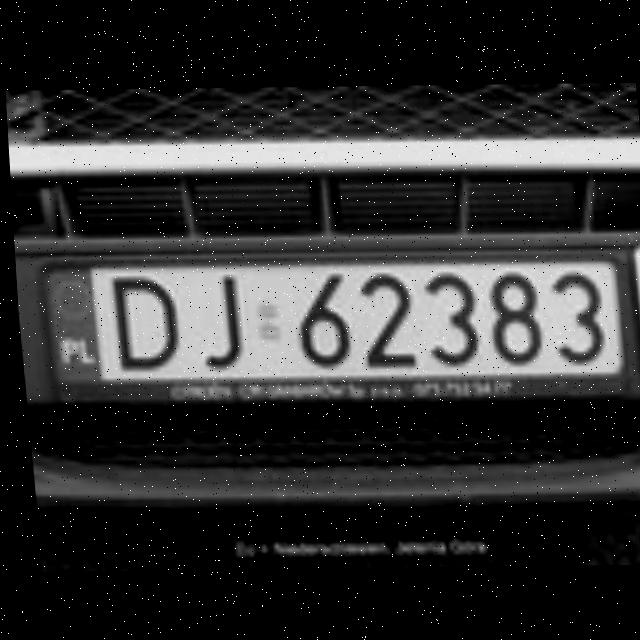license-plates: (46, 262, 624, 382)
